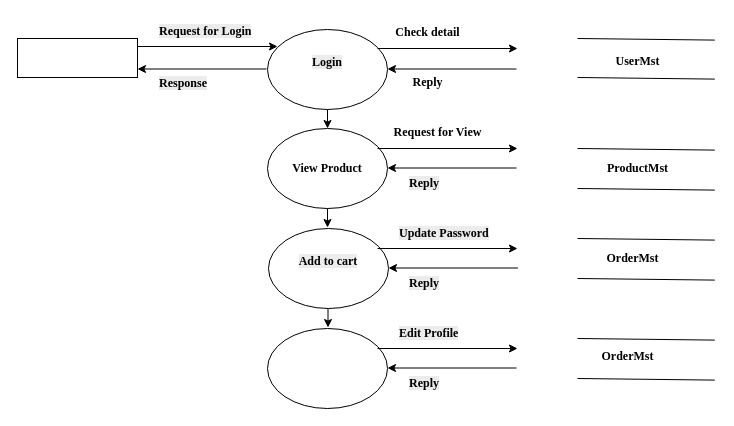
The diagram is 734 pixels wide and 426 high, and some of its shapes have lost their labels. The shapes that lost their labels are listed below. From the top down, each one's centre as x and y in pixels, then its label:
At (x=77, y=58): "USER".
At (x=327, y=368): "Confirm Order".
